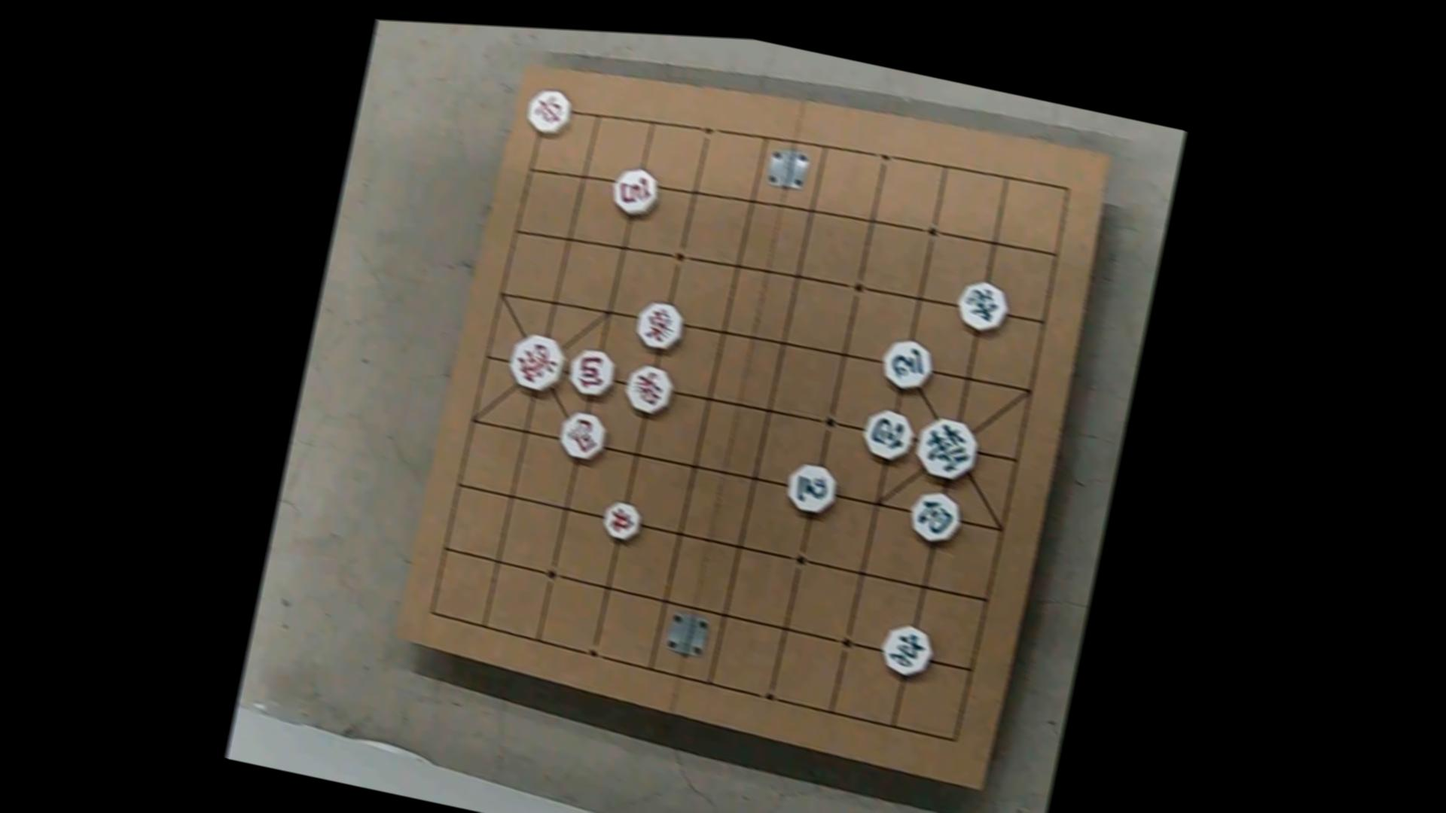cha_green: (876, 622, 935, 680)
cha_red: (523, 87, 574, 137)
jol_red: (599, 499, 643, 545)
ma_green: (876, 333, 935, 391), (782, 458, 839, 514)
ma_red: (555, 408, 609, 464)
po_green: (905, 486, 963, 544), (860, 405, 919, 461)
po_red: (606, 164, 660, 220), (564, 345, 618, 399)
sang_green: (950, 279, 1010, 336)
sang_red: (631, 300, 686, 356), (619, 365, 675, 419)
wang_green: (912, 412, 984, 483)
wang_red: (504, 333, 568, 397)
